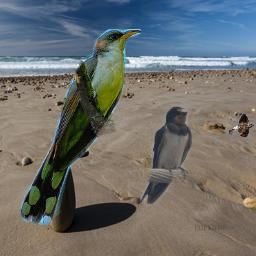Cuckoo: (21, 29, 141, 225)
Swallow: (140, 106, 192, 204), (228, 113, 255, 137)
